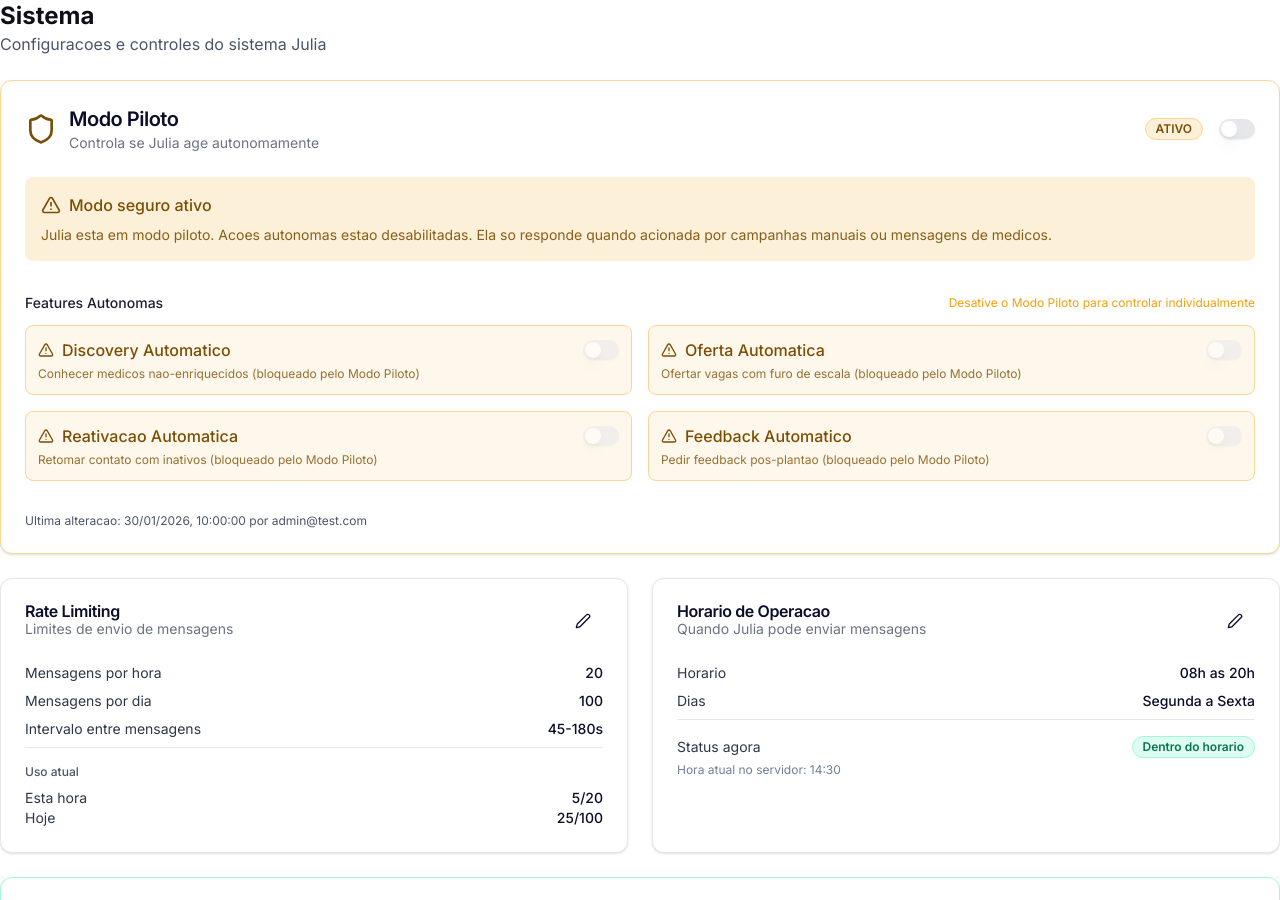
Test: SistemaPage › deve abrir dialog ao tentar desativar modo piloto
The image size is (1280, 900).
Expected: the text "ATIVO" is shown, [1145, 118, 1203, 140]
Click the switch in the row of "Controla se Julia age autonomamente" at (1237, 129), box [1219, 119, 1255, 139]
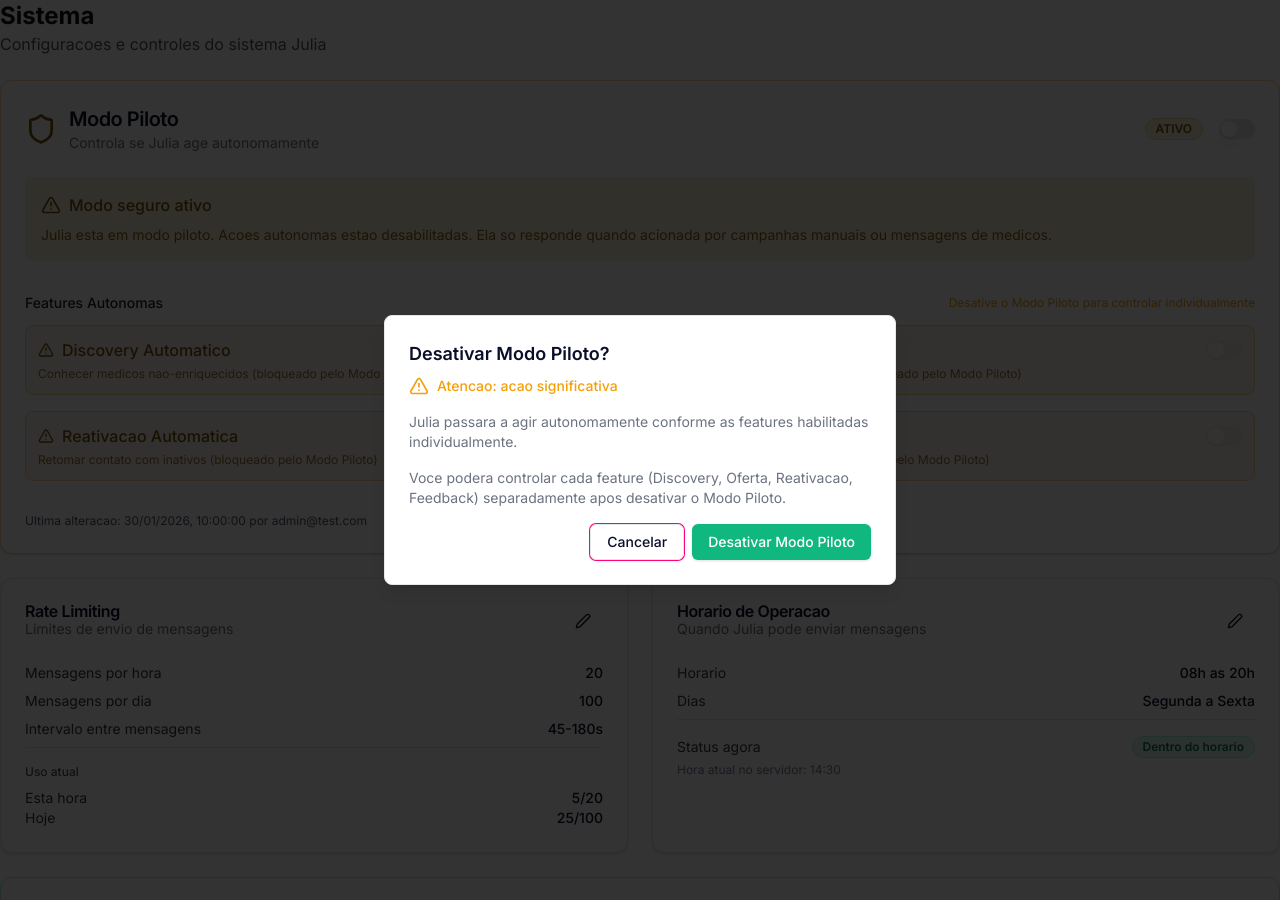
Now the heading "Desativar Modo Piloto?" is shown, box [409, 343, 610, 364]
